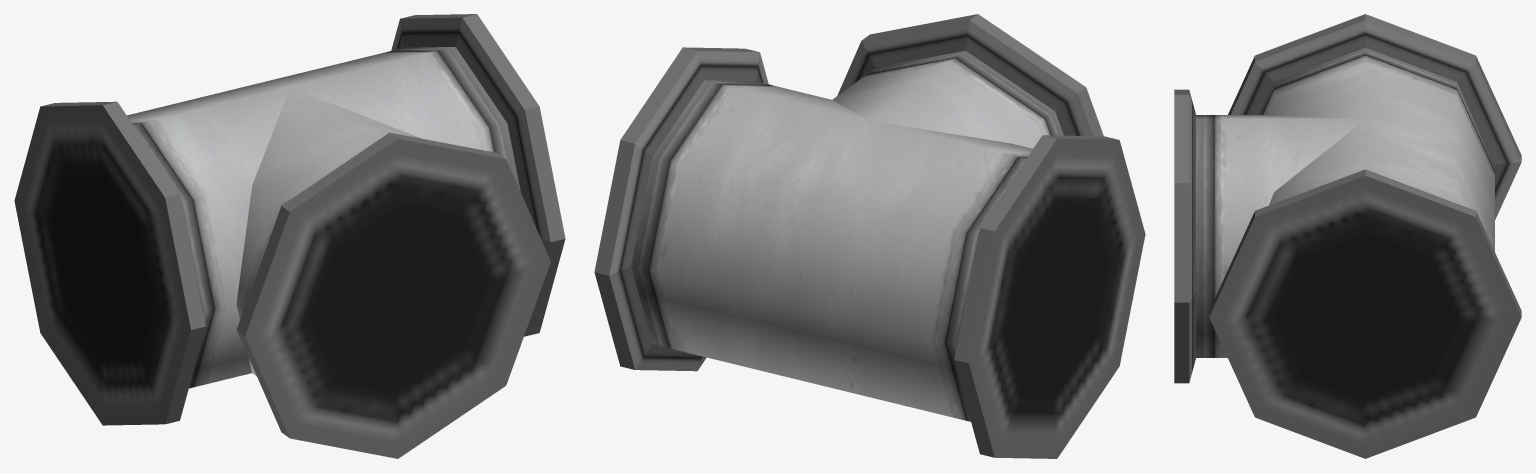
The model's file is pipe_T.glb.
3 views of the same model, side by side, from view 1: azimuth 30°, elevation 25°; view 2: azimuth 150°, elevation 25°; view 3: azimuth 270°, elevation 25° (orthographic). The views are drawn at different scales.
Parts seen in each view (by area): view 1: zhuti.II.020; view 2: zhuti.II.020; view 3: zhuti.II.020.
Boxes of the visible parts, bbox=[...] form: zhuti.II.020: bbox=[14, 14, 565, 458]; zhuti.II.020: bbox=[594, 14, 1145, 458]; zhuti.II.020: bbox=[1174, 14, 1521, 458].
Size of the model in its own units: 10 by 8.17 by 9.09.
1 material, 1 textured.
